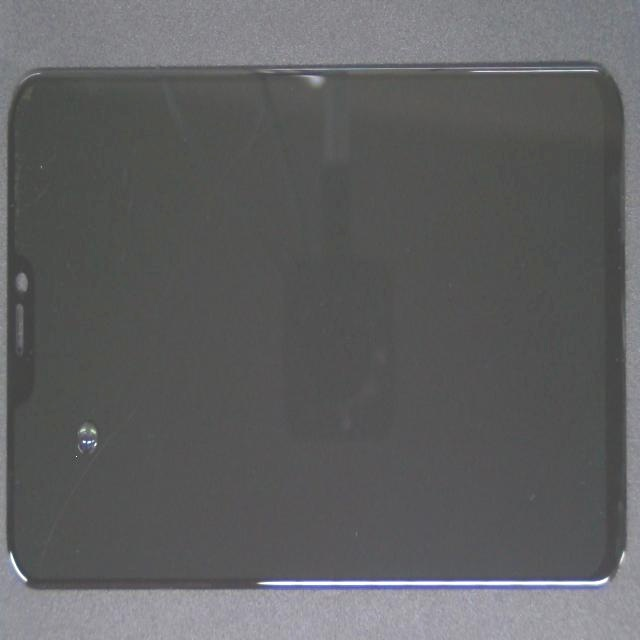oil: (61, 217, 148, 632)
